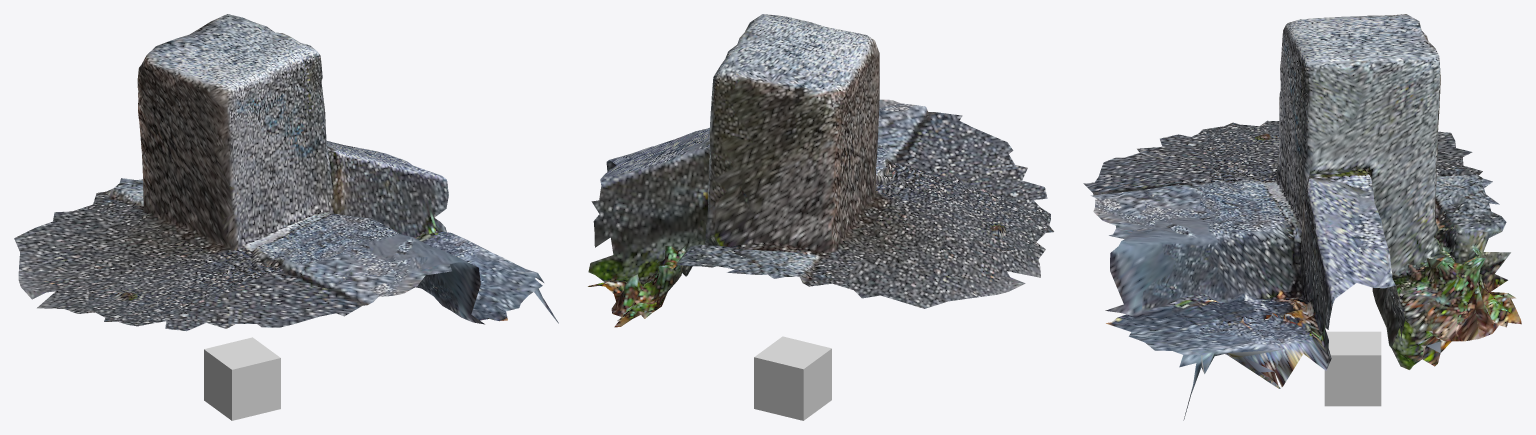
The model's file is tolppa.gltf.
The picture shows the model from 3 angles, left to right: view 1: azimuth 30°, elevation 25°; view 2: azimuth 150°, elevation 25°; view 3: azimuth 270°, elevation 25°; orthographic projection.
Visible parts, largest first — view 1: tolppa_exp, Cube; view 2: tolppa_exp, Cube; view 3: tolppa_exp, Cube.
Part boxes in pixels (x1,y1,x2,y2): tolppa_exp: [14, 14, 558, 331]; Cube: [204, 337, 280, 420]; tolppa_exp: [588, 14, 1053, 327]; Cube: [754, 336, 831, 420]; tolppa_exp: [1083, 14, 1521, 420]; Cube: [1324, 331, 1381, 406].
Size of the model in its own units: 18.73 by 14 by 15.54.
2 materials, 1 textured.
